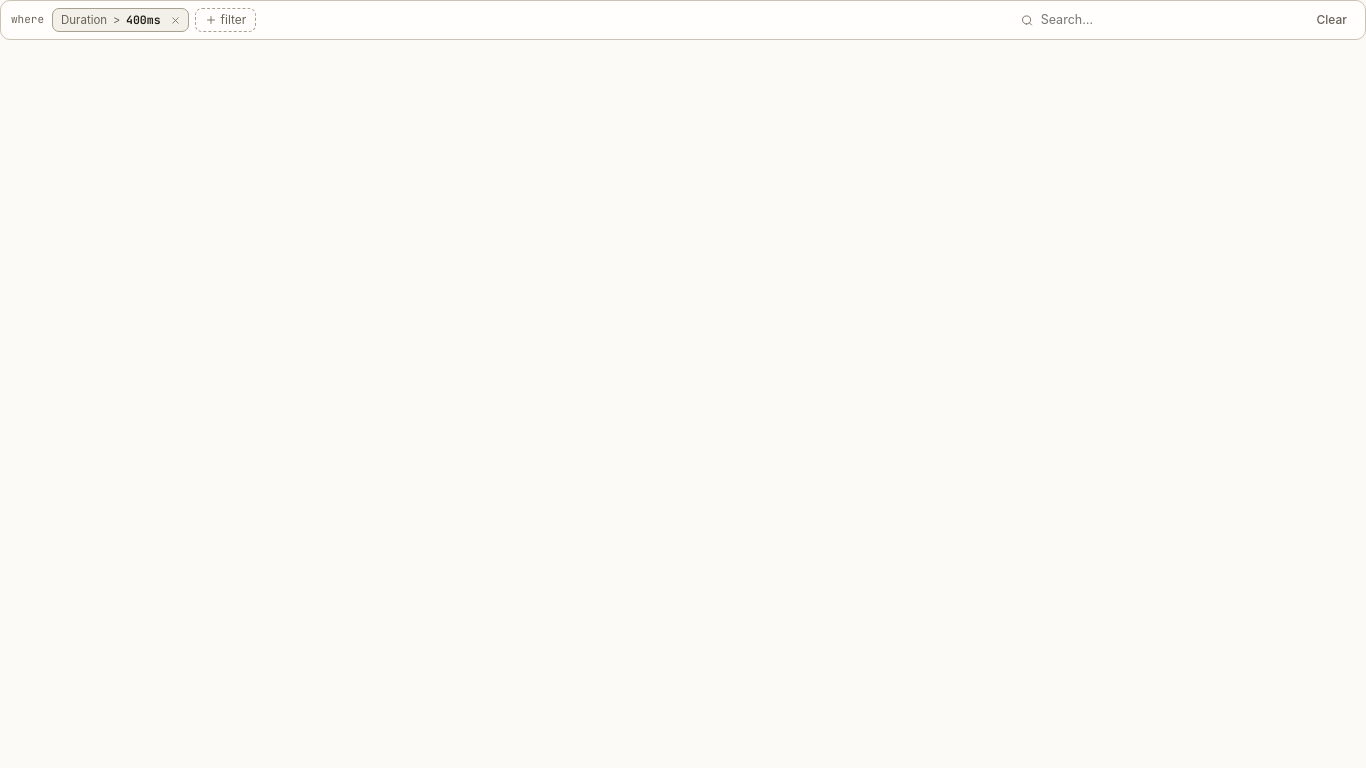
Test: FilterBar › applies a suggested value and cancels on Escape
Click the button with aria-label "Edit duration>400ms" at (112, 20), box [61, 9, 162, 31]
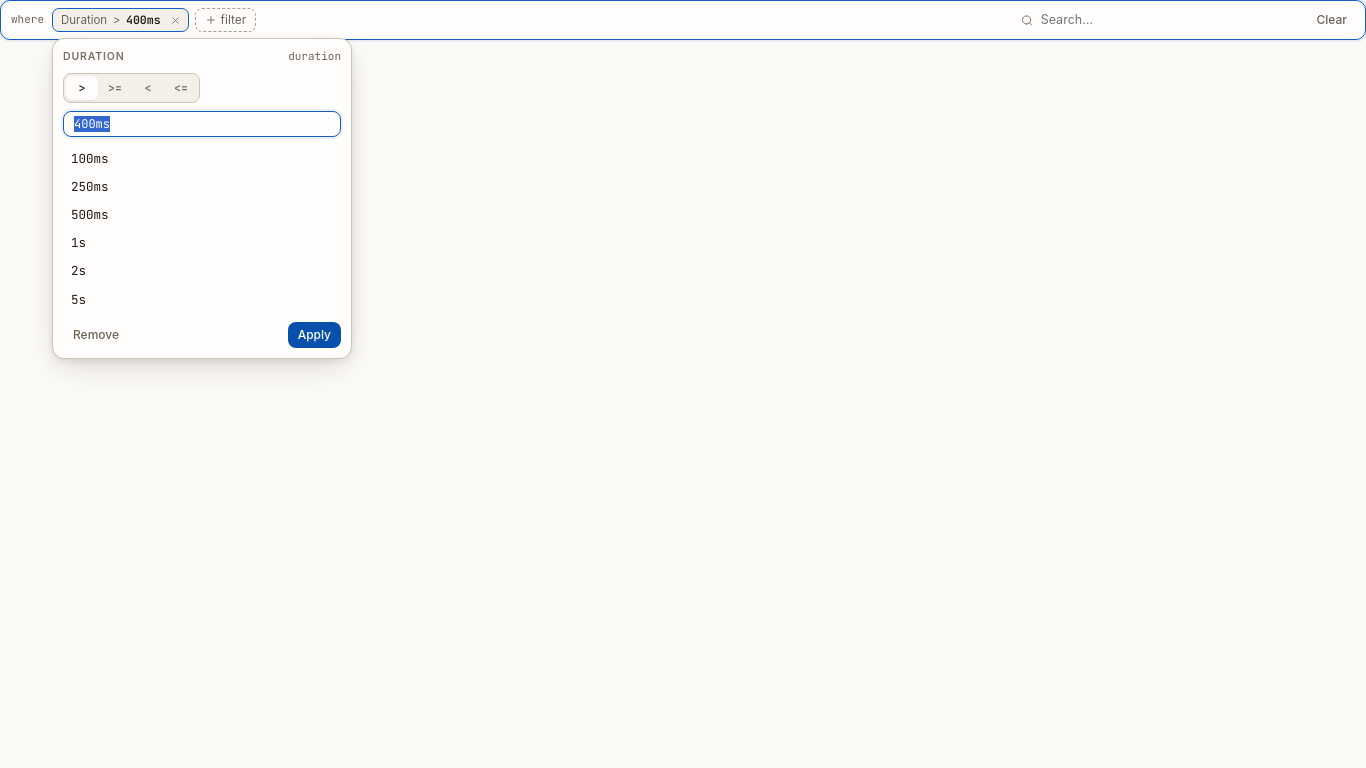
Click the button "1s" at (79, 243), box [63, 229, 341, 257]
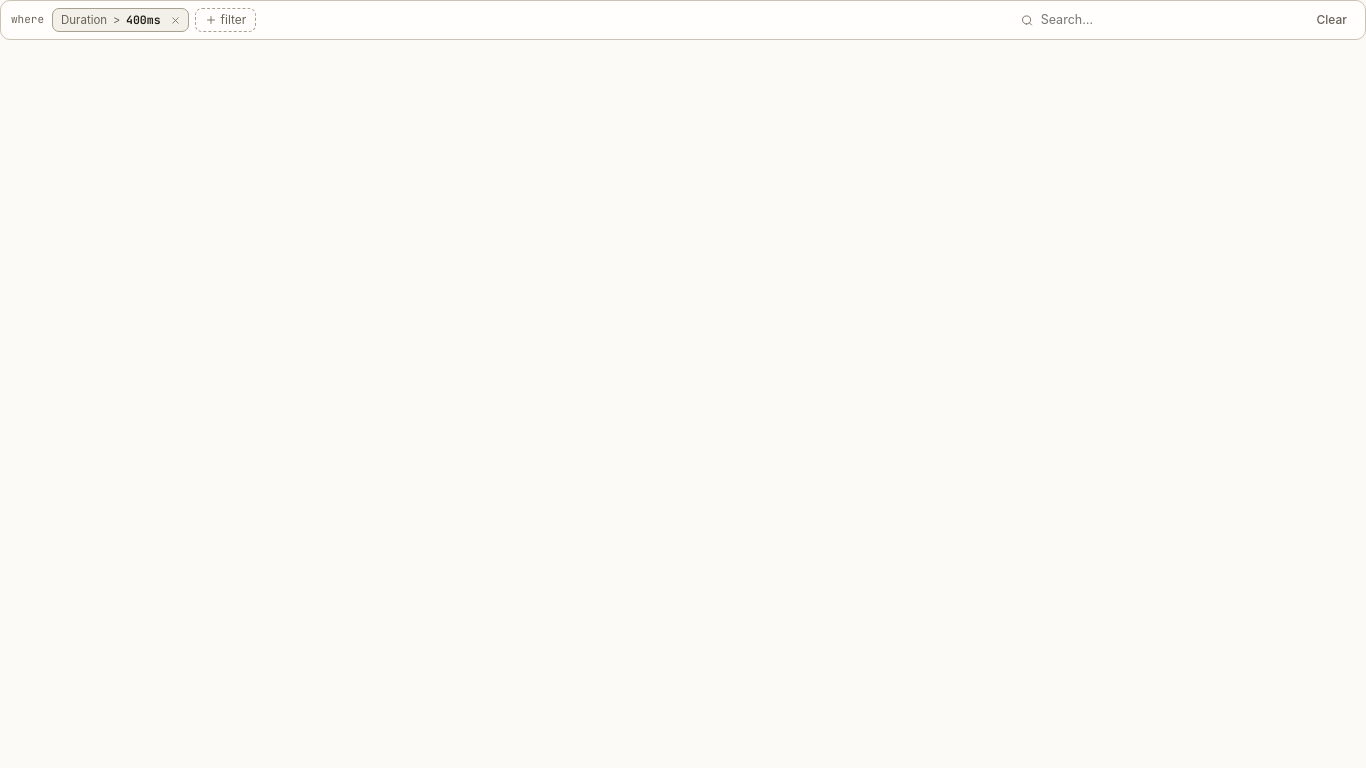
Click the button with aria-label "Edit duration>400ms" at (112, 20), box [61, 9, 162, 31]
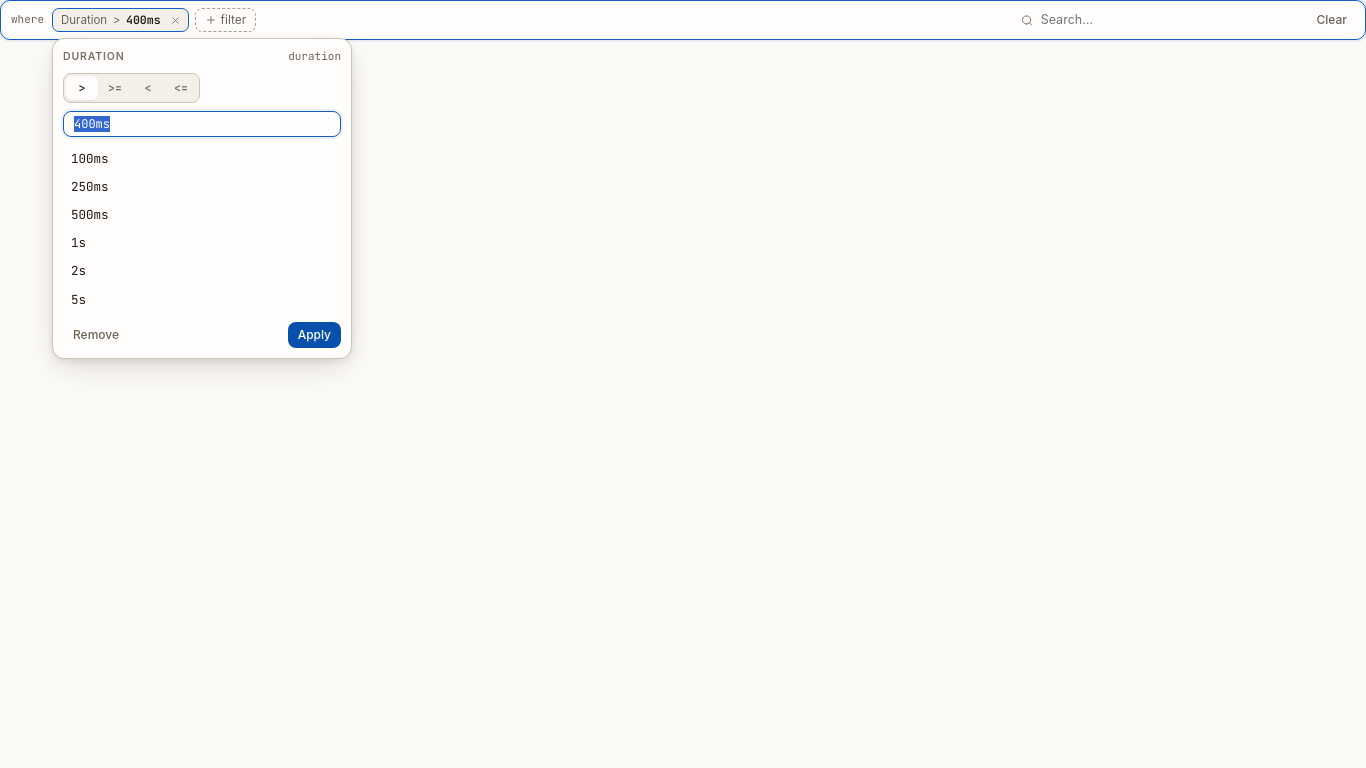
Press Escape
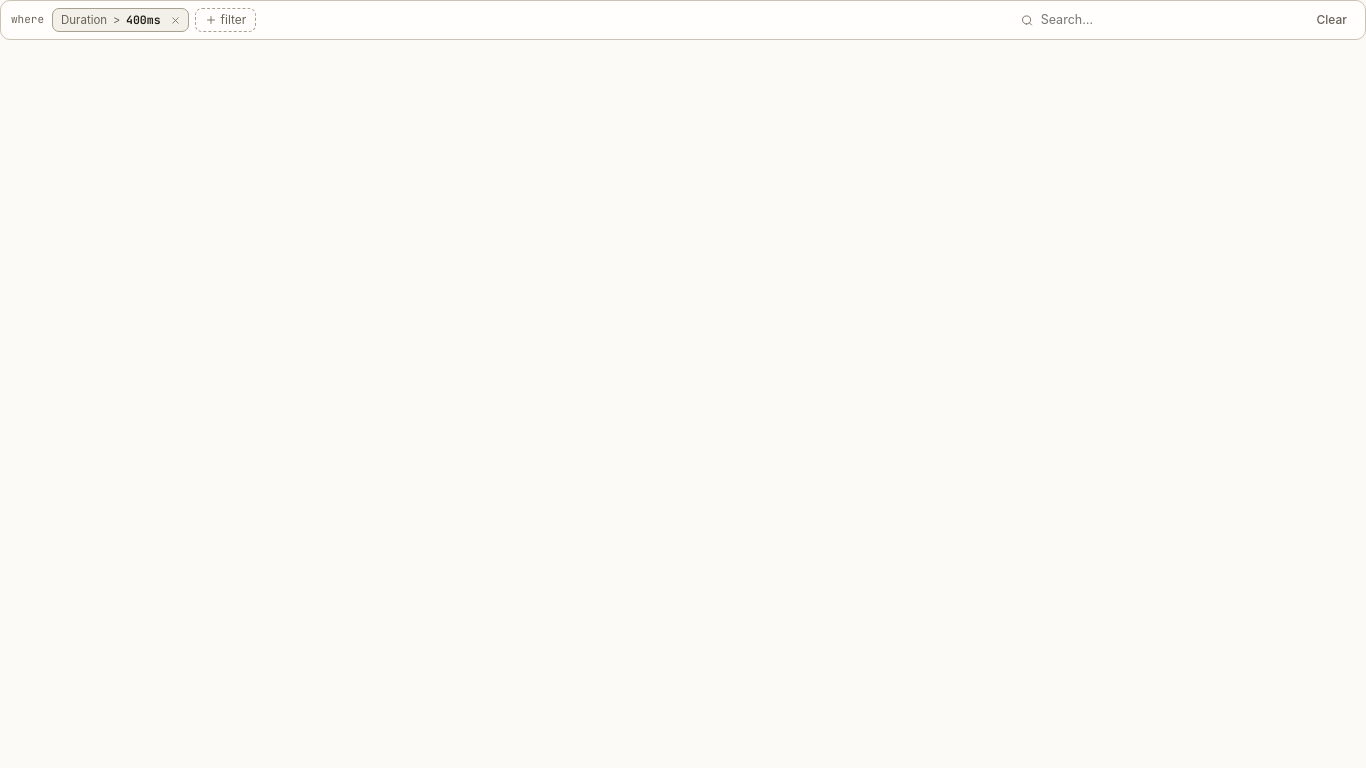
Result: the dialog is gone
